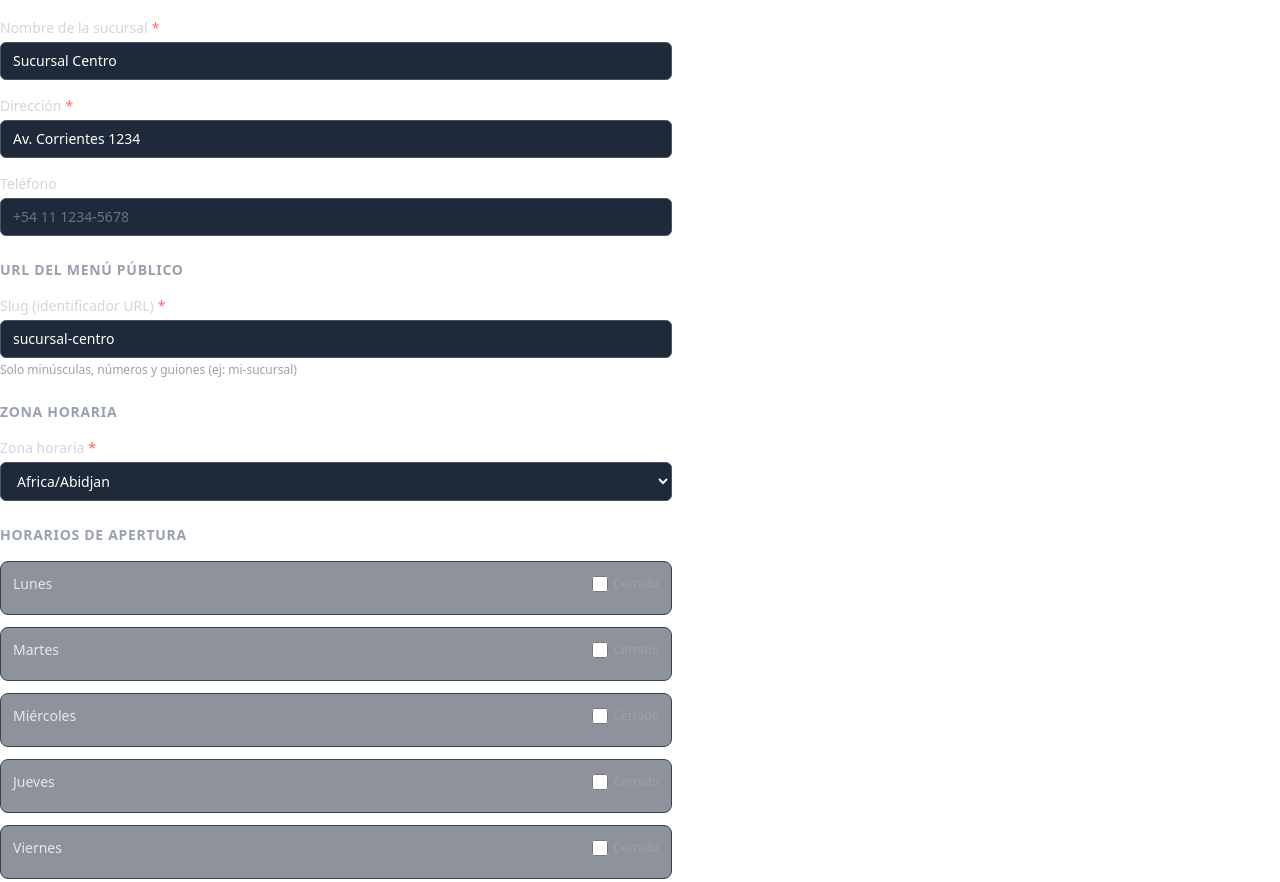
Scenario: BranchSettingsForm › opens SlugChangeDialog when slug value changes on submit
Step 1. Replace the text in the field showing "sucursal-centro" with "nuevo-slug" → coordinates (336, 339), box [0, 320, 672, 358]
(page scrolled)
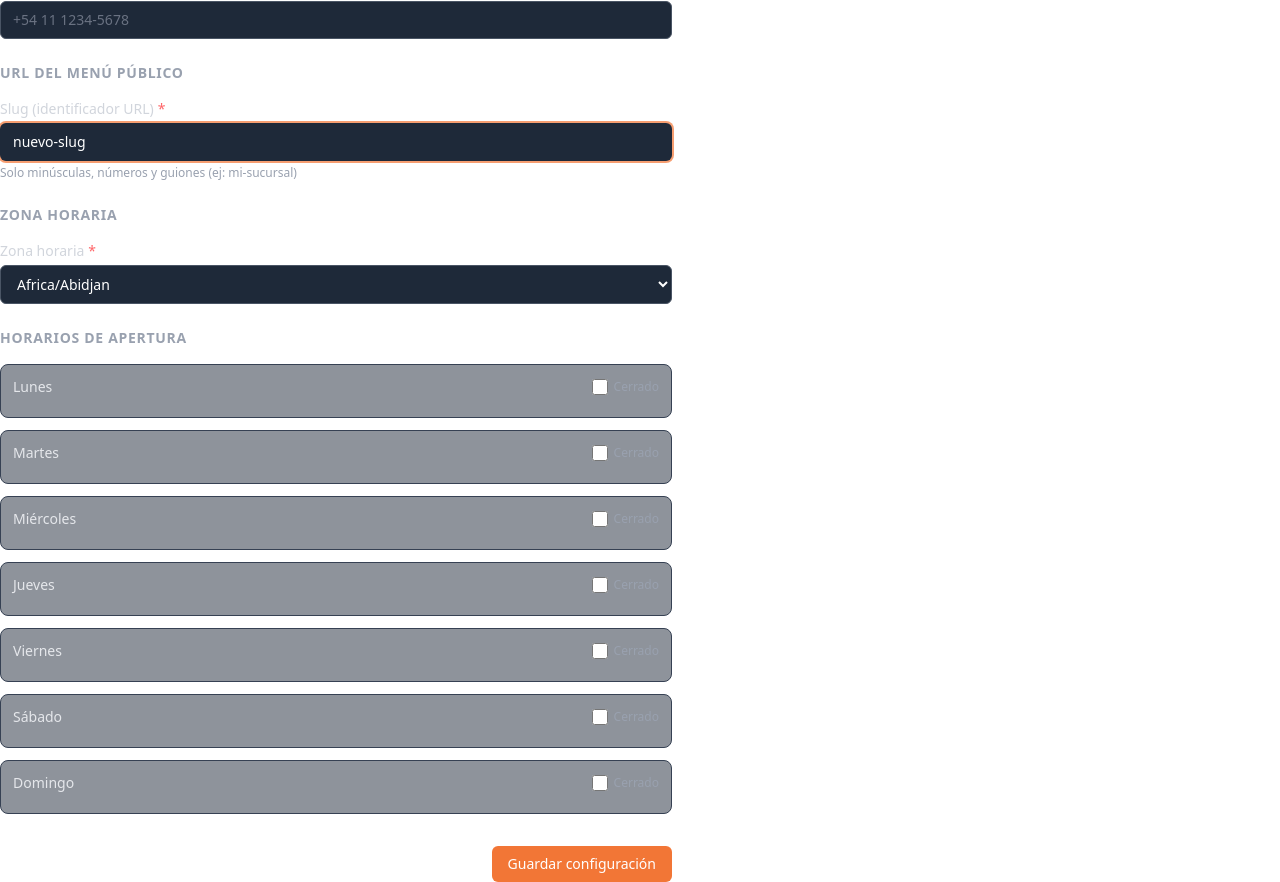
Step 2. Click the button "Guardar configuración" → coordinates (582, 864), box [492, 846, 672, 881]
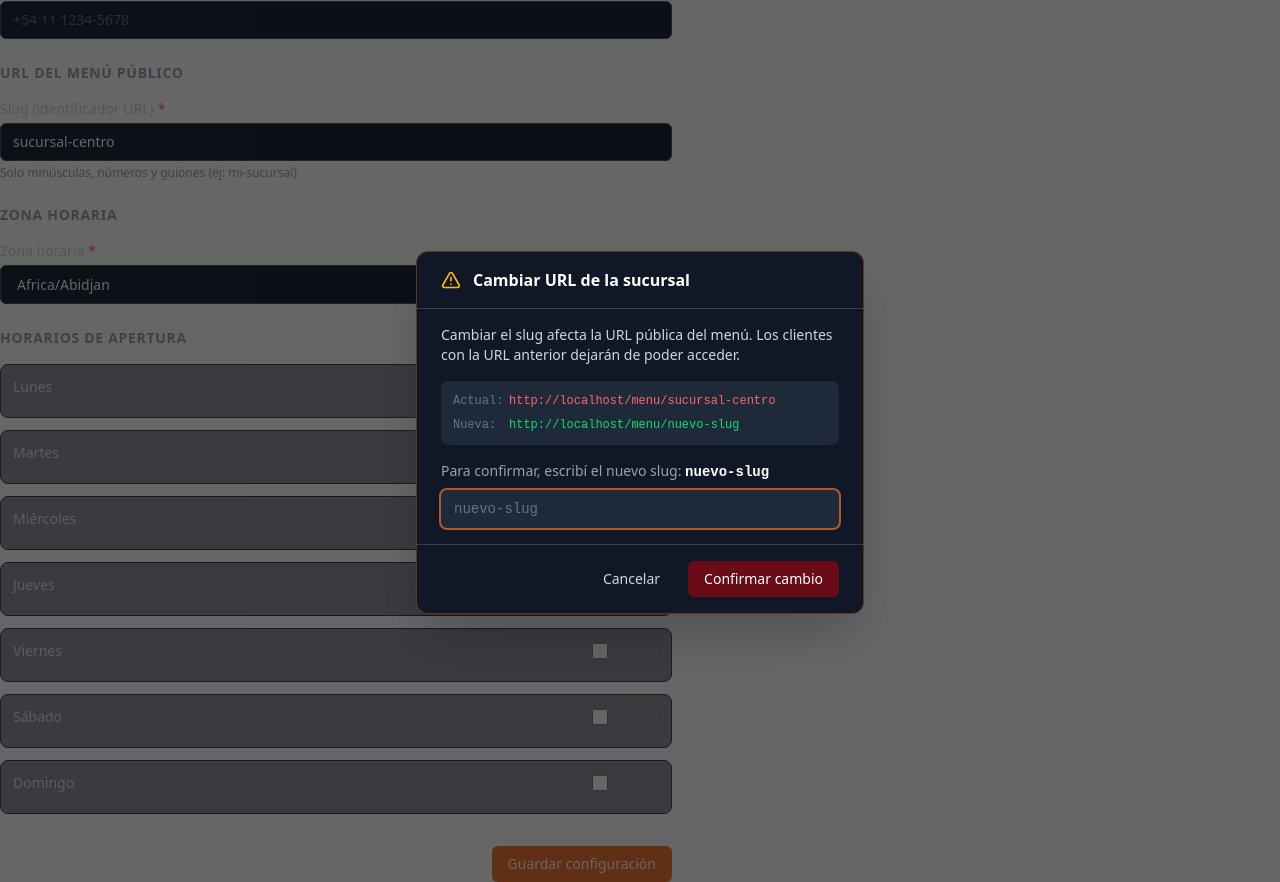
Expected: the dialog is shown, [416, 250, 864, 614]
